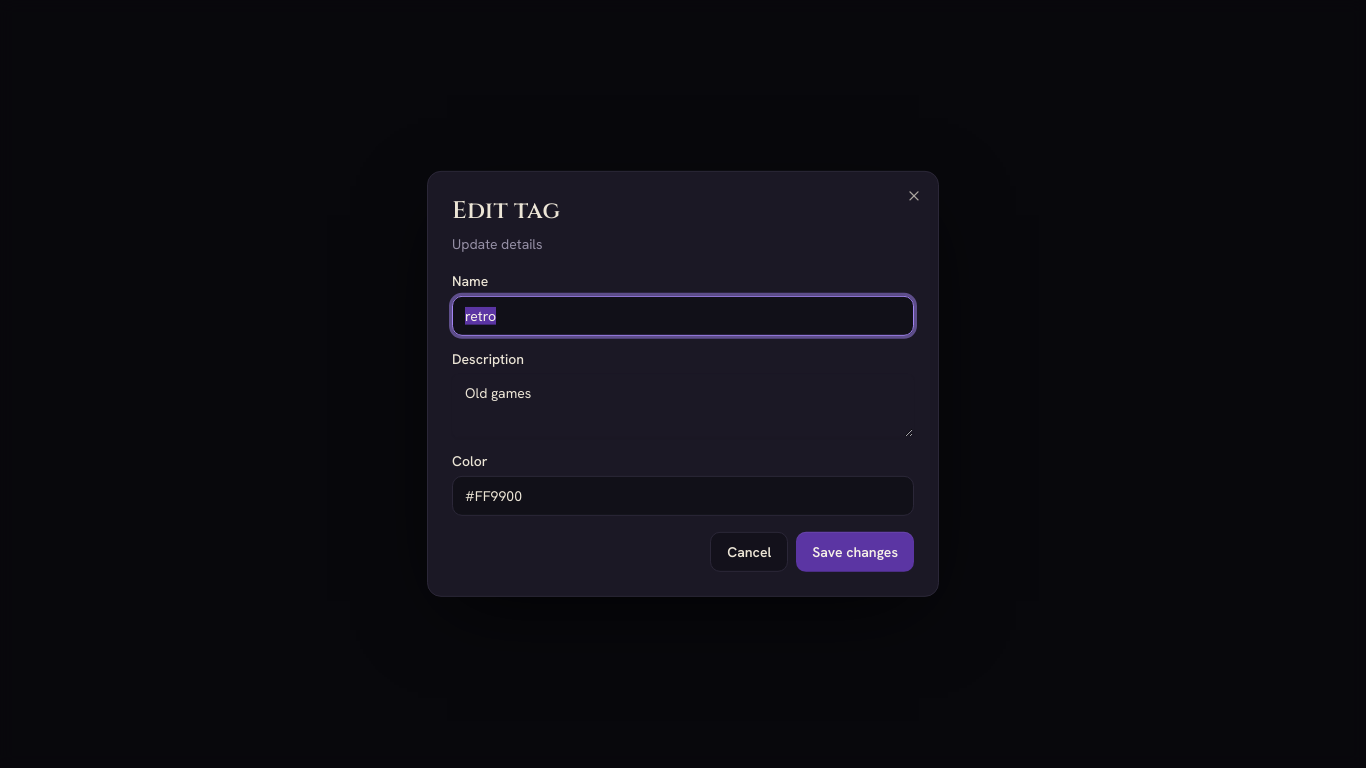
Scenario: TaxonomyFormDialog › requires a name
Clear the field labelled "Name" at (683, 316), box x1=452 y1=296 x2=914 y2=336
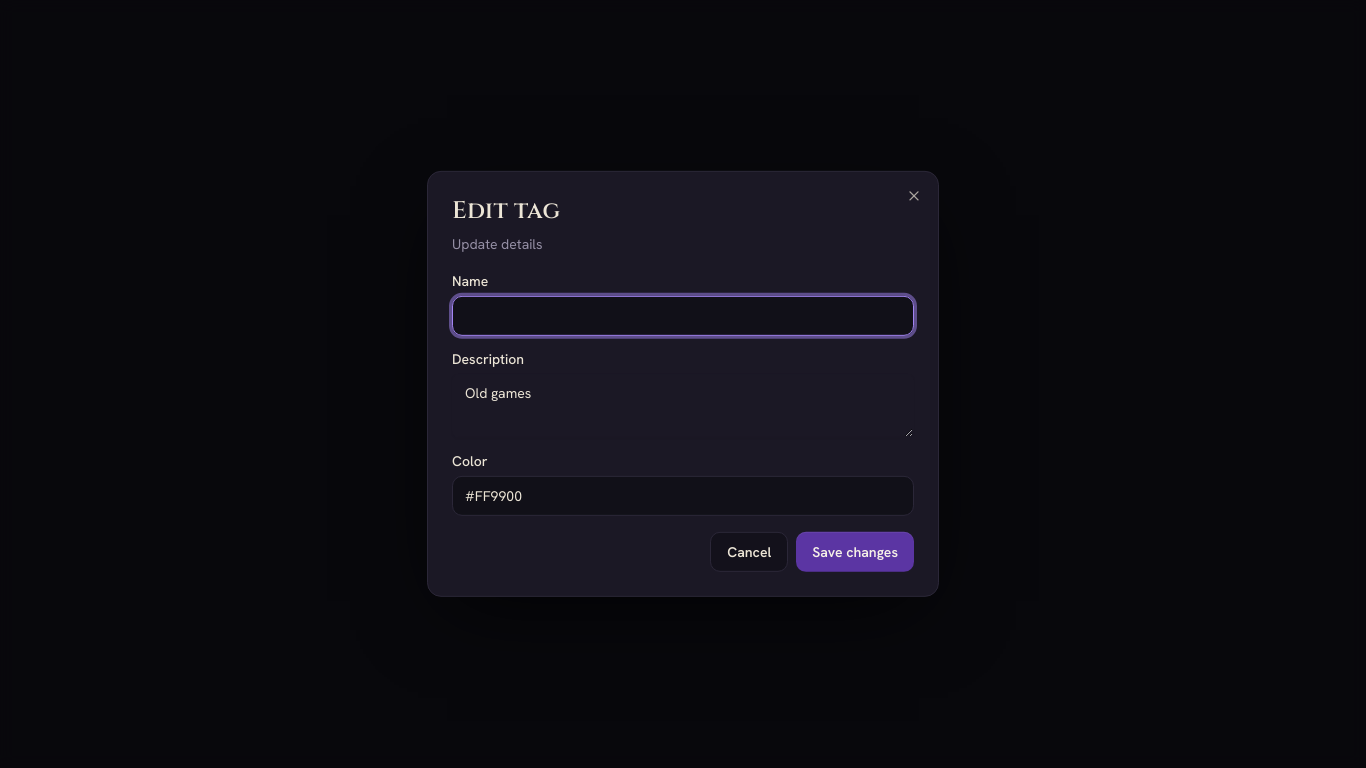
Click the button "Save changes" at (855, 552), box x1=796 y1=532 x2=914 y2=572
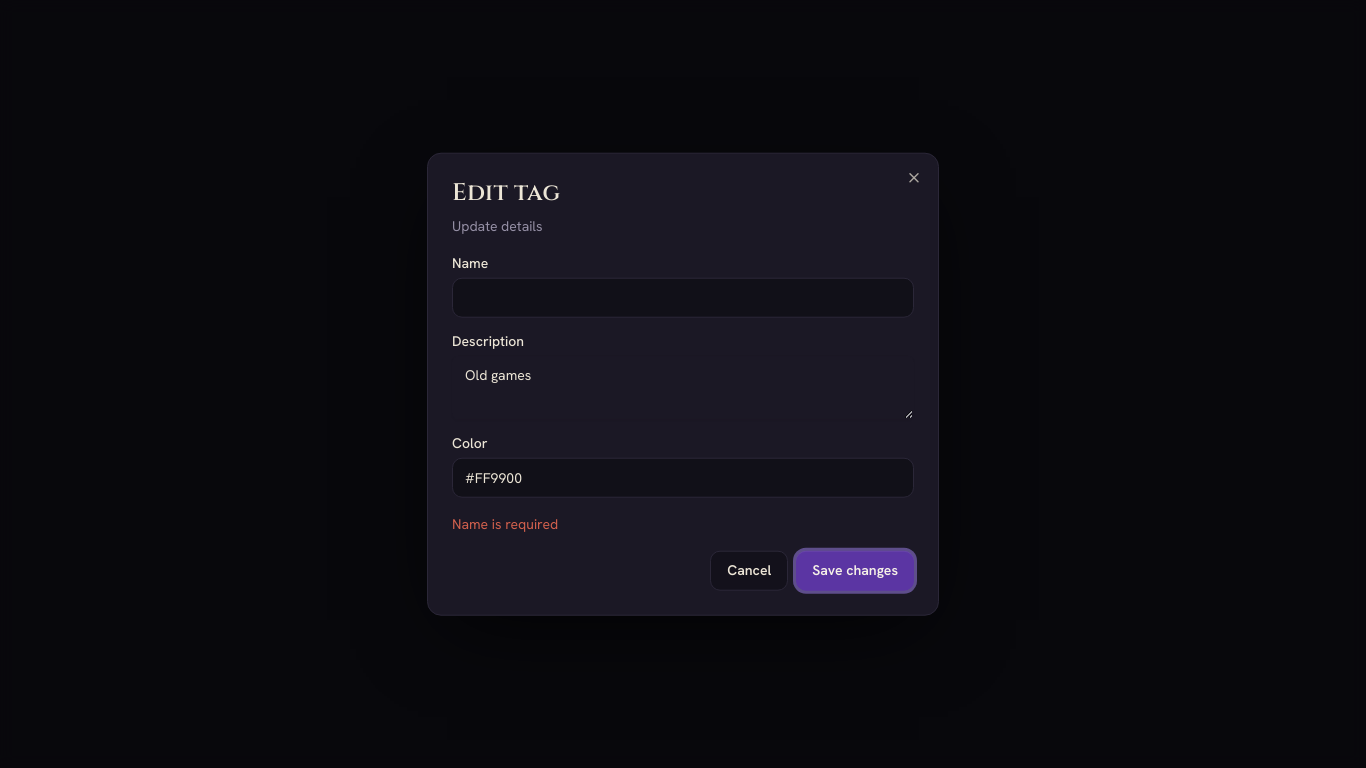
Now the text "Name is required" is shown, box x1=452 y1=515 x2=558 y2=533
